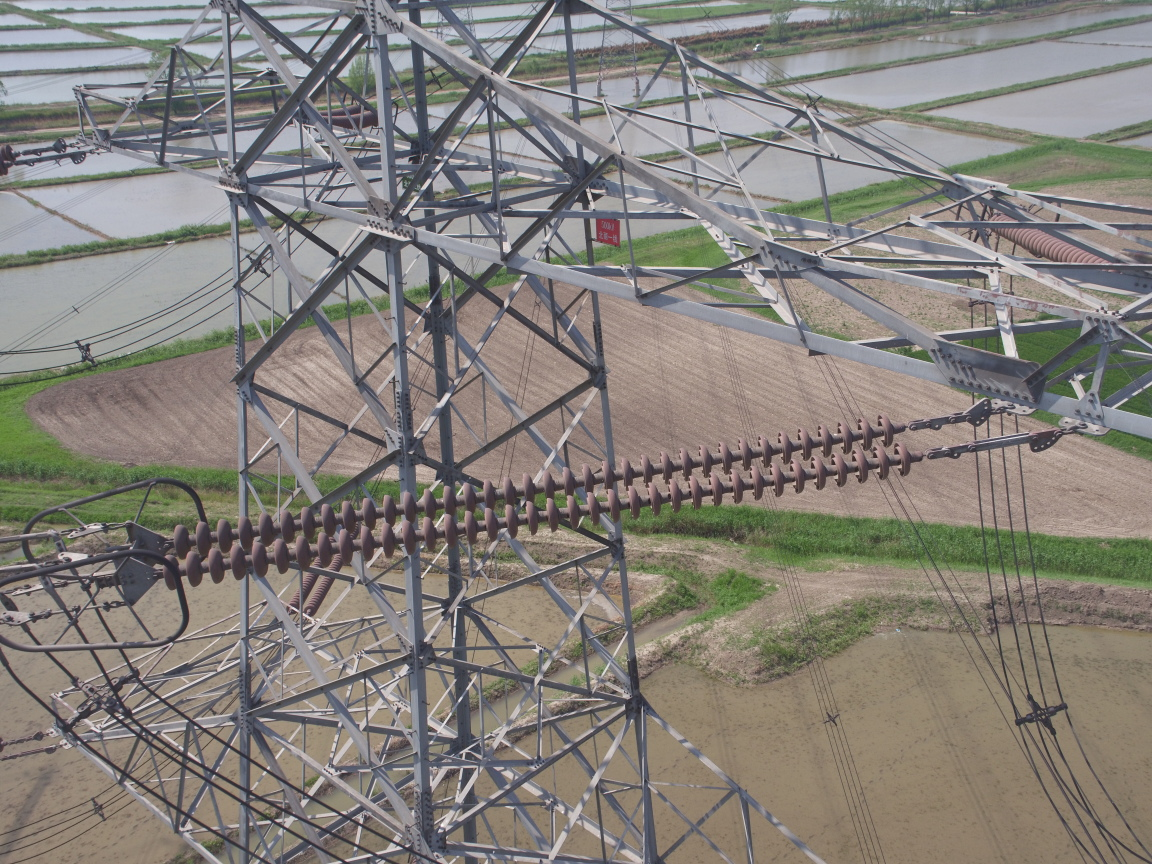insulator: (146, 410, 962, 594)
